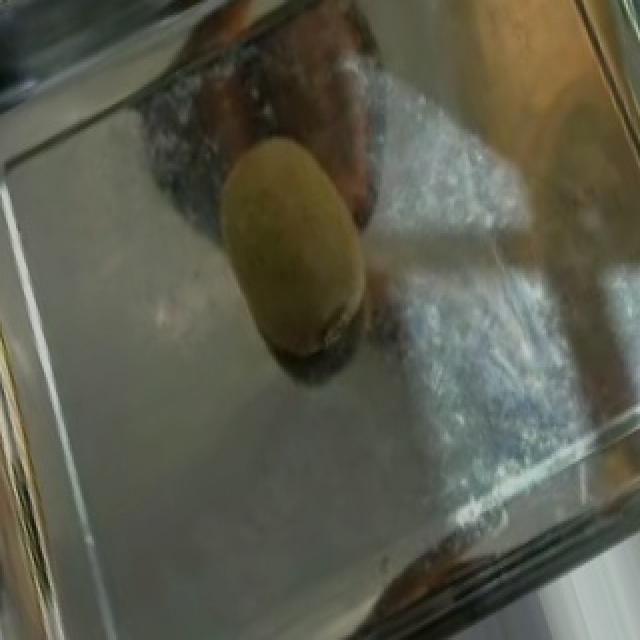Fruit: (340, 0, 640, 238), (178, 109, 416, 387)
